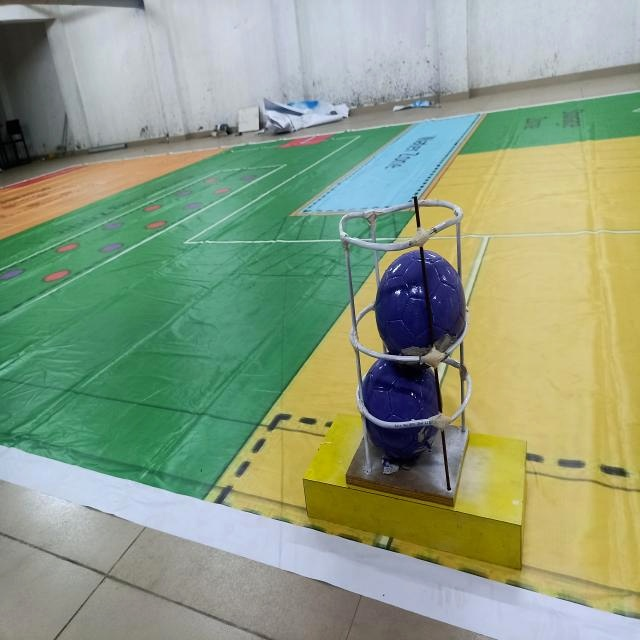purple_ball: (377, 252, 463, 360), (362, 357, 442, 462)
silo: (337, 197, 471, 508)
